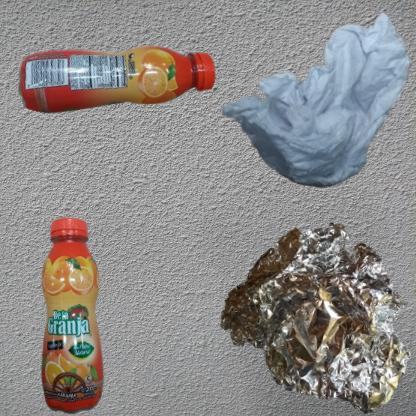aluminio: (213, 213, 416, 416)
botella: (10, 10, 249, 169), (10, 213, 156, 416)
papel: (213, 10, 416, 198)
